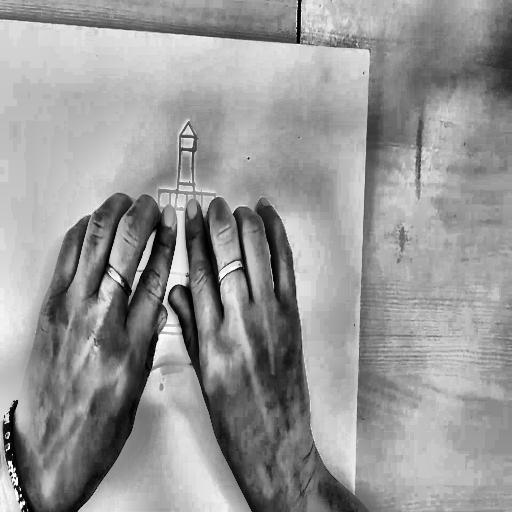eiffel-tower: (81, 103, 285, 424)
top_right: (368, 47, 371, 52)
